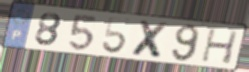5: (100, 15, 137, 56), (66, 14, 100, 52)
8: (35, 11, 63, 47)
9: (170, 23, 203, 63)
H: (199, 27, 241, 66)
X: (130, 19, 172, 61)
